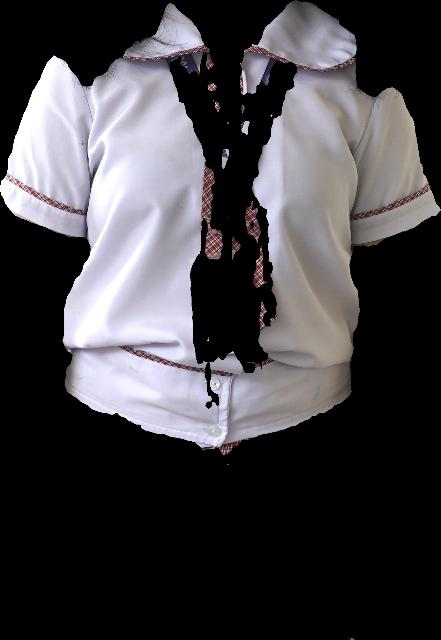pologirl: (0, 0, 440, 455)
